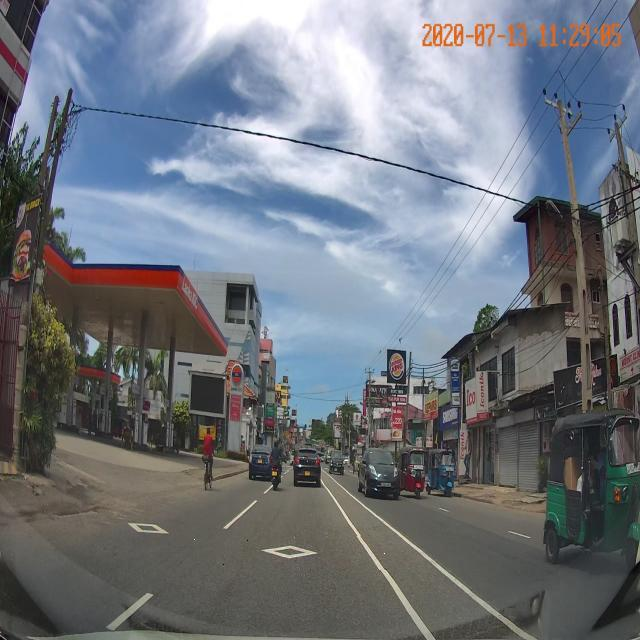diamond: (194, 537, 386, 570)
